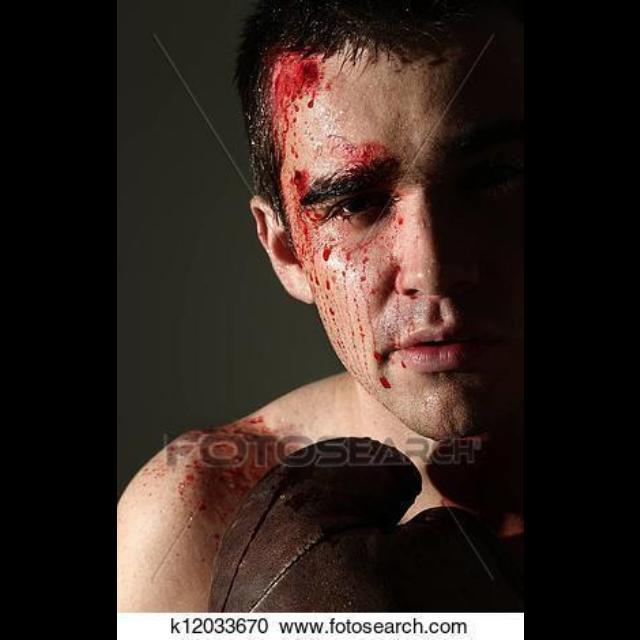blood: (282, 130, 408, 412), (267, 54, 324, 225)
